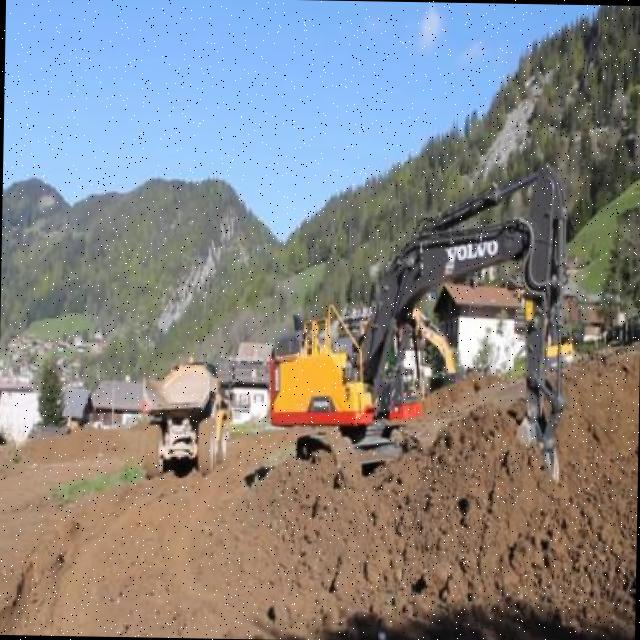Dump Truck: (139, 346, 233, 479)
Excavator: (265, 153, 571, 496)
